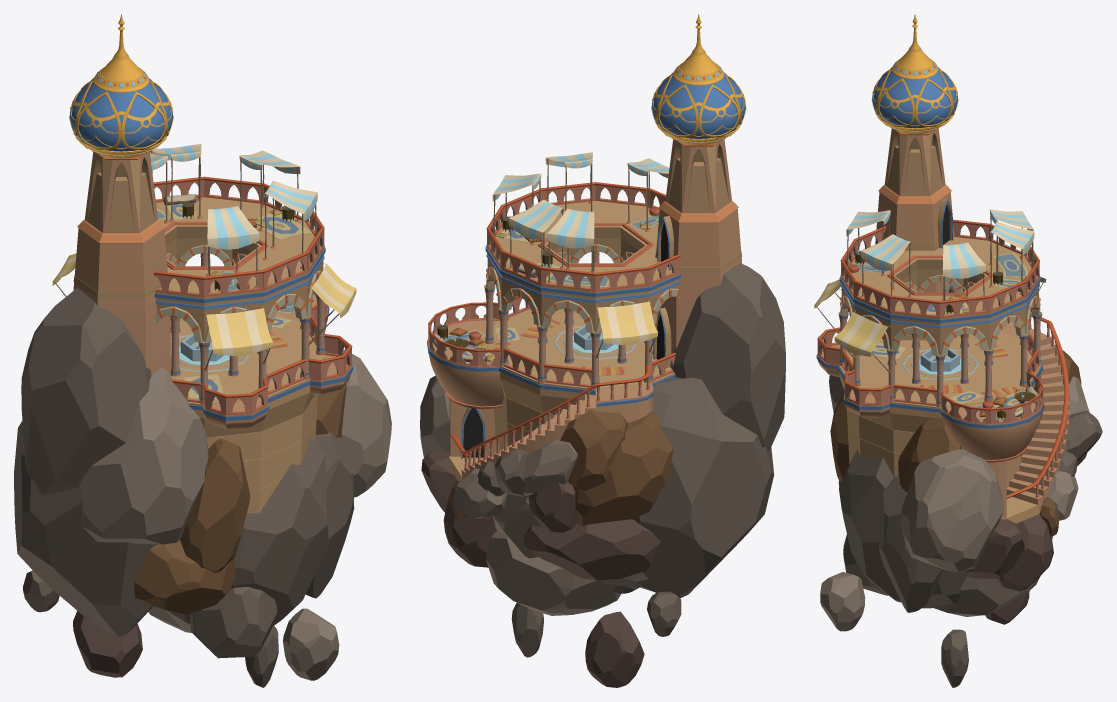
3 renders of one model, left to right at view 1: azimuth 30°, elevation 25°; view 2: azimuth 150°, elevation 25°; view 3: azimuth 270°, elevation 25°, orthographic. The views are drawn at different scales.
Parts seen in each view (by area): view 1: Icosphere, Icosphere.001, Icosphere.002, Cylinder.001, Cylinder, Icosphere.007, Icosphere.018, Cylinder.003, Icosphere.024, Icosphere.017, Icosphere.020, Cylinder.002 (+34 smaller); view 2: Icosphere.002, Icosphere, Cylinder, Cylinder.001, Icosphere.003, Icosphere.012, Icosphere.023, Cylinder.003, Cylinder.002, Icosphere.011, Icosphere.026, Cylinder.007 (+44 smaller); view 3: Icosphere.017, Cylinder, Icosphere.007, Cylinder.003, Cylinder.001, Cylinder.077, Icosphere.021, Cylinder.007, Cylinder.002, Icosphere.015, Icosphere.025, Icosphere.023 (+43 smaller).
Boxes of the visible parts, x1,y1,x2,y2 form: Icosphere: (21,287,151,495); Icosphere.001: (78,367,208,544); Icosphere.002: (14,421,156,636); Cylinder.001: (73,152,170,375); Cylinder: (170,313,325,513); Icosphere.007: (167,437,328,626); Icosphere.018: (180,438,250,572); Cylinder.003: (155,197,324,306); Icosphere.024: (134,539,235,614); Icosphere.017: (341,349,391,497); Icosphere.020: (190,587,277,658); Cylinder.002: (69,78,173,151); Icosphere.002: (635,377,774,598); Icosphere: (671,263,785,452); Cylinder: (484,308,674,451); Cylinder.001: (656,139,742,353); Icosphere.003: (573,412,673,526); Icosphere.012: (523,519,660,580); Icosphere.023: (486,530,621,615); Cylinder.003: (486,200,679,299); Cylinder.002: (651,72,745,138); Icosphere.011: (560,410,628,490); Icosphere.026: (585,611,644,687); Cylinder.007: (427,318,503,406); Icosphere.017: (900,449,1003,572); Cylinder: (839,331,1041,487); Icosphere.007: (839,449,966,608); Cylinder.003: (840,237,1039,325); Cylinder.001: (875,128,955,335); Cylinder.077: (1006,330,1069,514); Icosphere.021: (879,474,943,612); Cylinder.007: (940,386,1043,460); Cylinder.002: (872,67,957,128); Icosphere.015: (997,513,1053,591); Icosphere.025: (820,572,865,631); Icosphere.023: (933,536,1052,616).
Bounding box in the file's own units: 1387 × 2587 × 1114.
